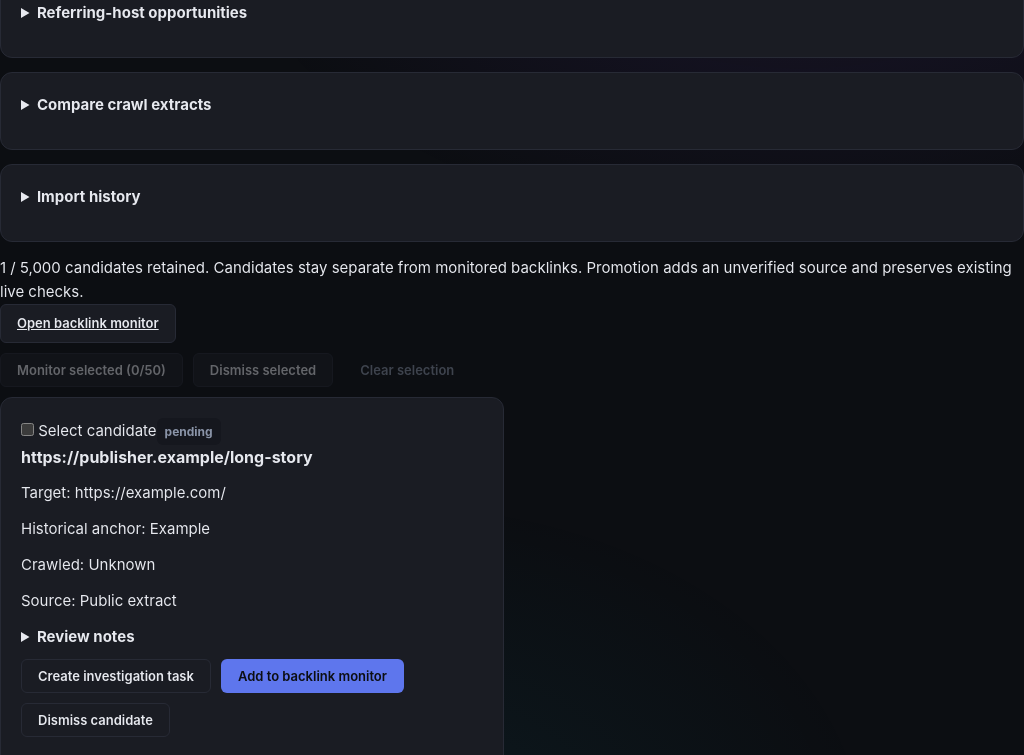
Test case: clears bulk selection when filtering and moves promoted candidates out of the inbox
This screenshot has width=1024, height=755.
(page scrolled)
Expected: the heading "https://publisher.example/long-story" is shown, x1=21 y1=447 x2=312 y2=467
Step 1. Click the checkbox labelled "Select candidate" → (28, 430), box x1=21 y1=423 x2=34 y2=436
(page scrolled)
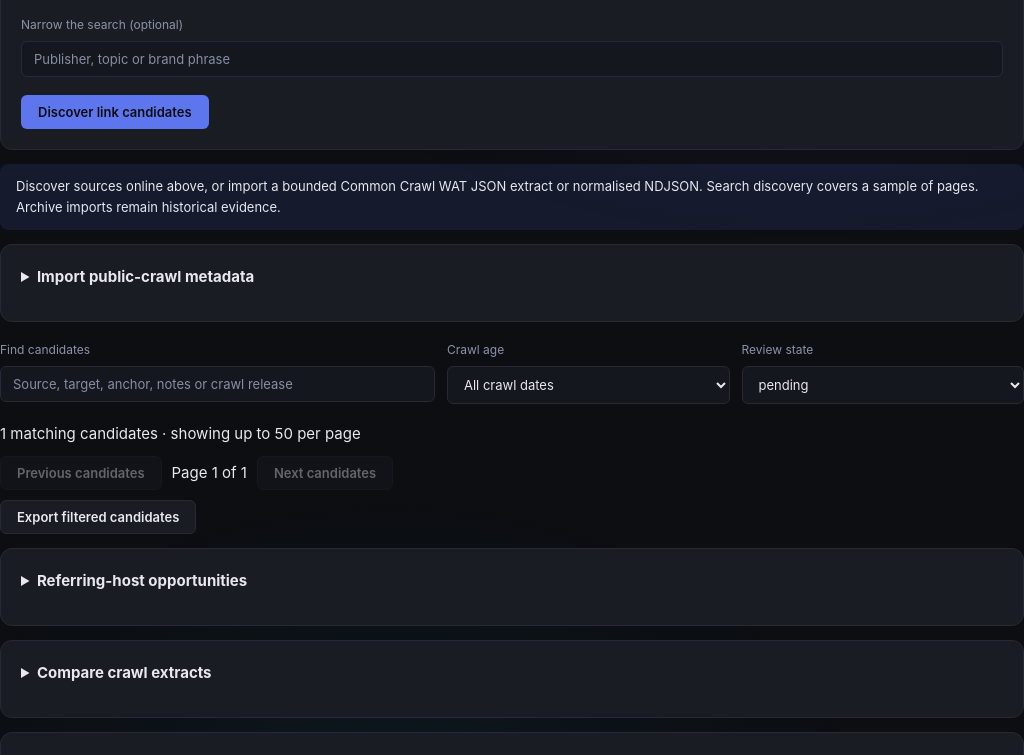
Step 2. Type "publisher" into the field labelled "Find candidates" → (218, 384), box x1=0 y1=366 x2=435 y2=402
(page scrolled)
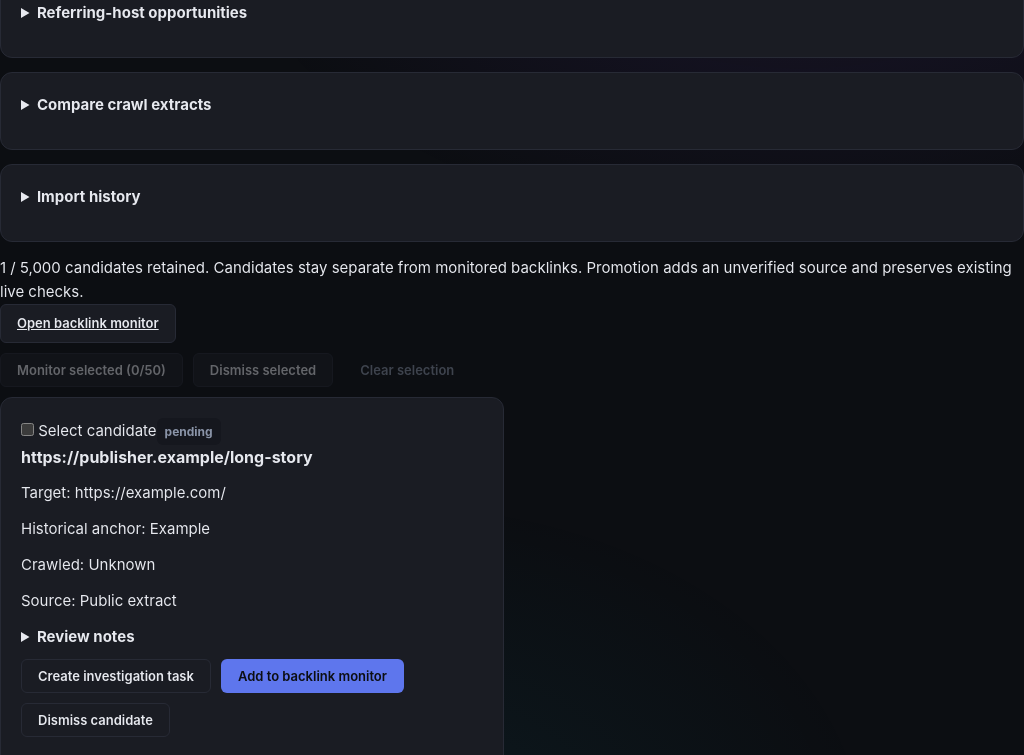
Result: the button "Monitor selected (0/50)" is disabled at x1=0 y1=353 x2=183 y2=387
Step 3. Click the button "Add to backlink monitor" → (312, 676), box x1=221 y1=659 x2=404 y2=693
(page scrolled)
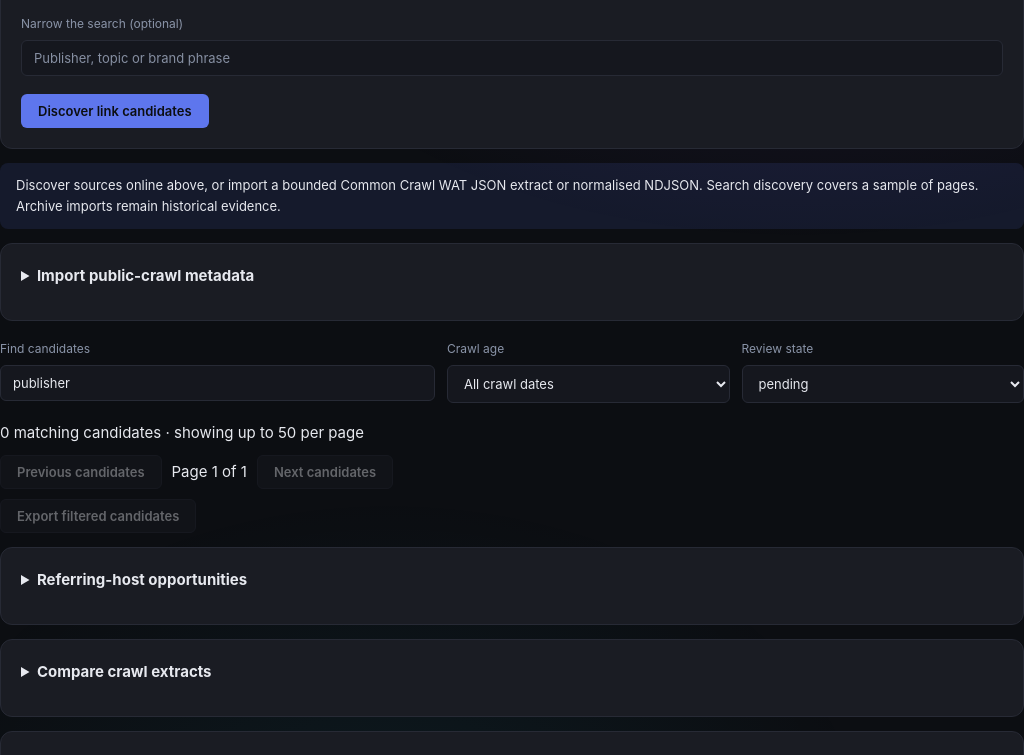
Result: the heading "https://publisher.example/long-story" is gone
Step 4. Select "promoted" in the dropdown labelled "Review state" → (883, 384), box x1=742 y1=365 x2=1023 y2=403
(page scrolled)
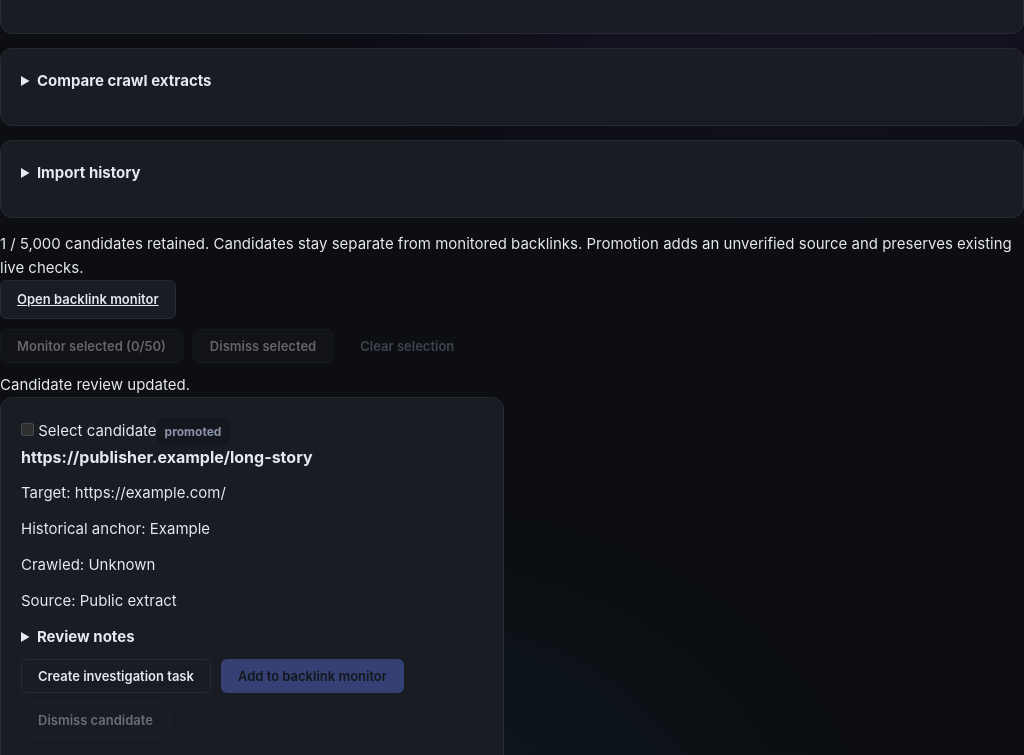
Result: the heading "https://publisher.example/long-story" is shown at x1=21 y1=447 x2=312 y2=467
